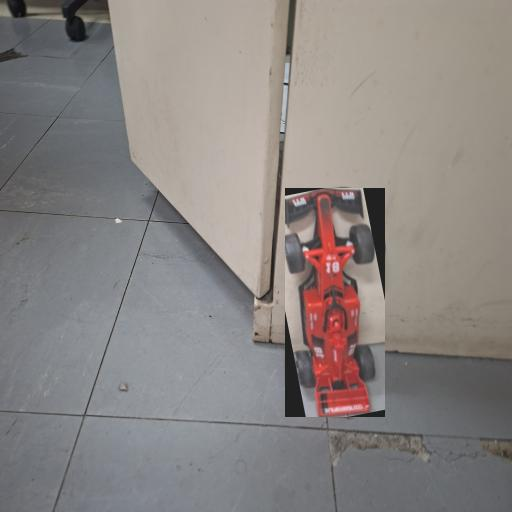carro: (285, 189, 384, 416)
